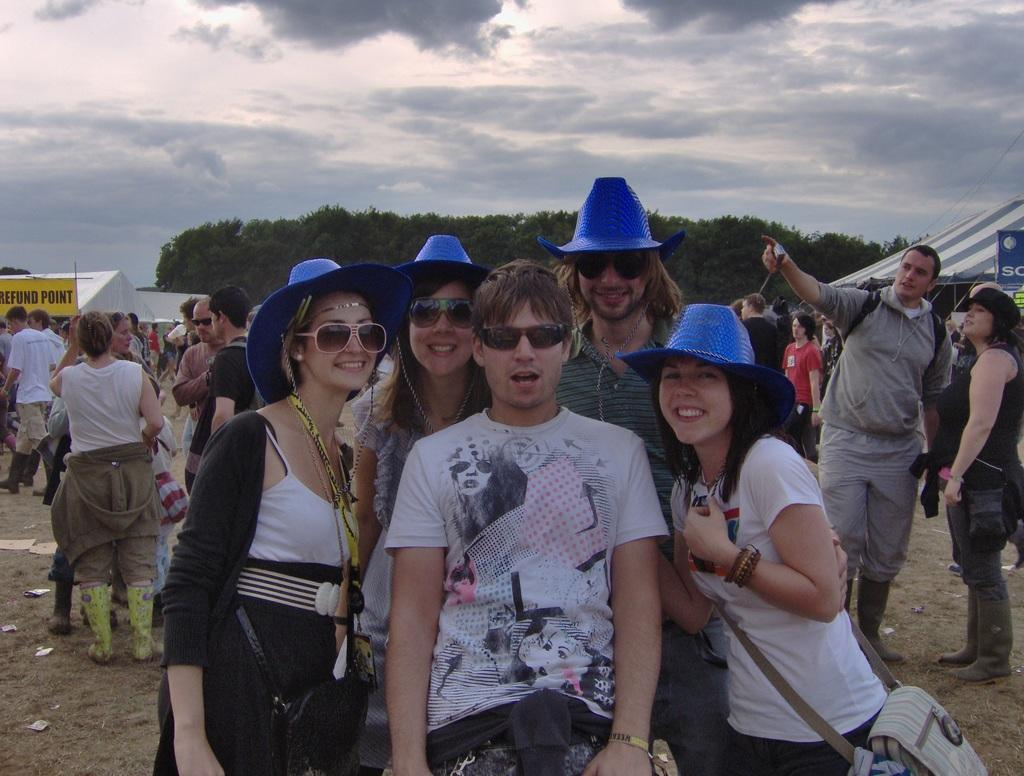Hat: (246, 258, 414, 508), (614, 306, 794, 504), (538, 180, 684, 420), (396, 237, 494, 434)
